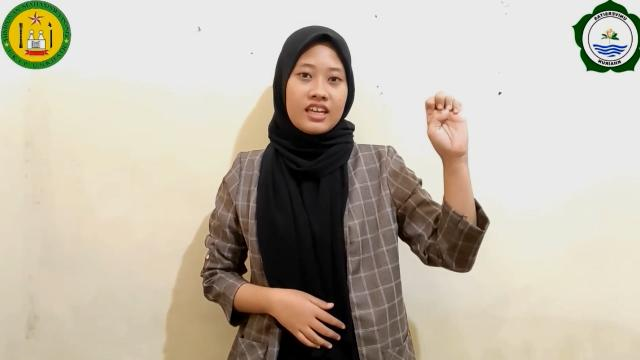E: (420, 94, 472, 162)
